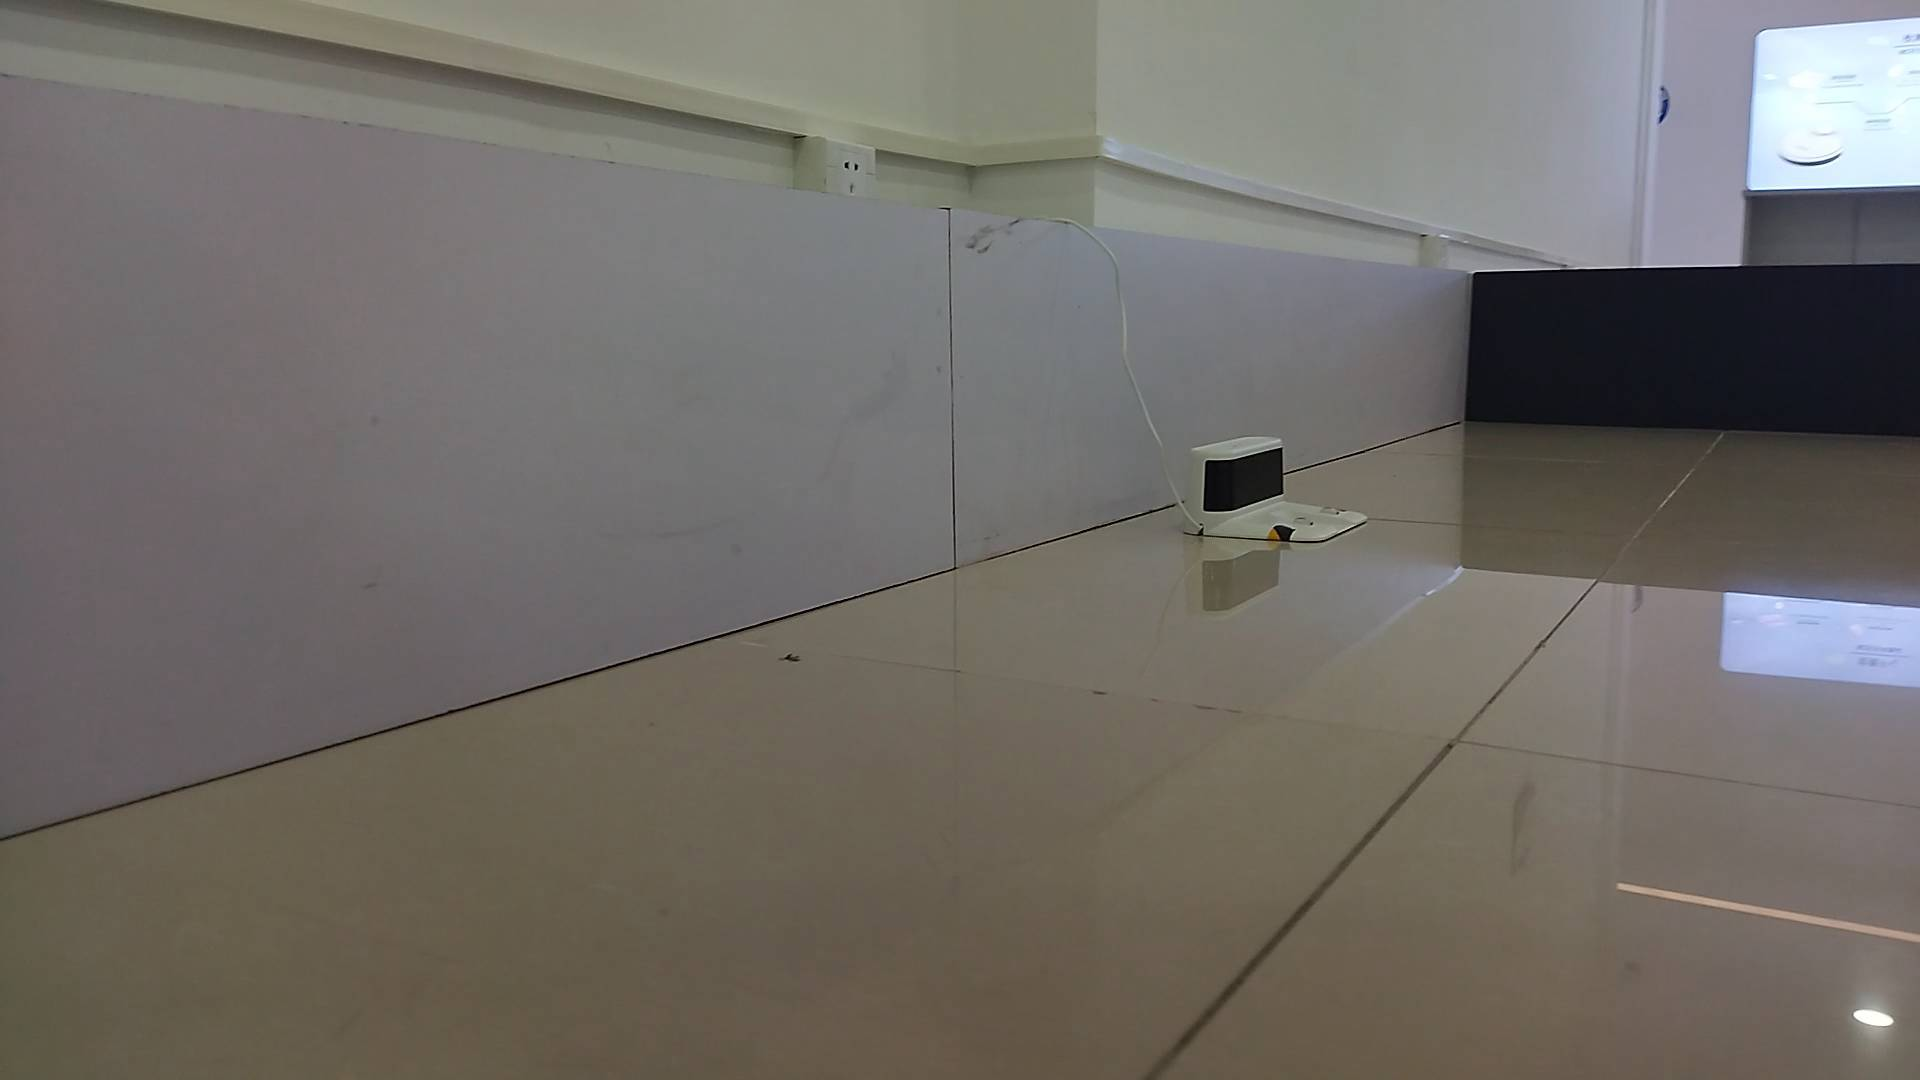recharge seat: (1187, 434, 1371, 542)
